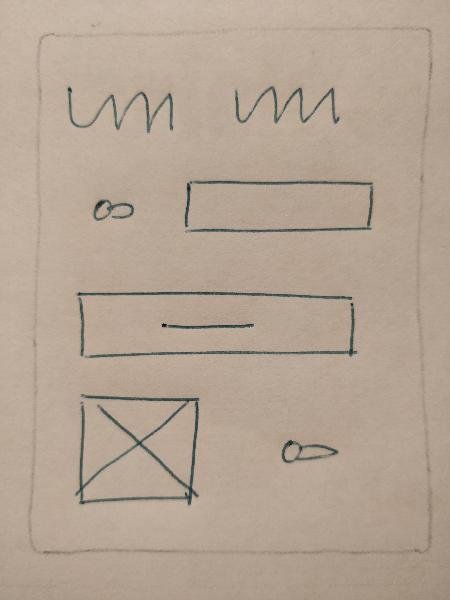button: (65, 281, 368, 372)
image: (68, 384, 207, 514)
switch: (77, 182, 143, 235), (268, 430, 351, 469)
text: (60, 77, 184, 145), (220, 75, 349, 139)
text_input: (169, 170, 380, 245)
